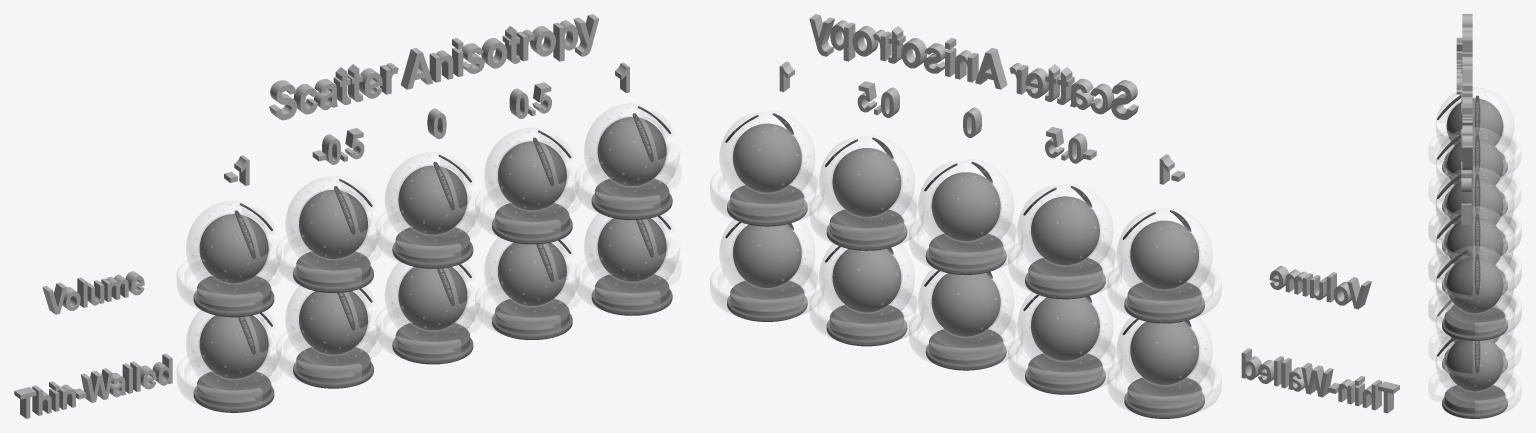
File: ScatterAnisotropy.glb
The picture shows the model from 3 angles, left to right: view 1: azimuth 30°, elevation 25°; view 2: azimuth 150°, elevation 25°; view 3: azimuth 270°, elevation 25°; orthographic projection. The views are drawn at different scales.
Parts seen in each view (by area): view 1: material_surface (×10), core (×10), base (×10), Scatter Anisotropy, Thin-Walled, UI, Volume; view 2: material_surface (×10), core (×10), base (×10), Scatter Anisotropy, Thin-Walled, UI, Volume; view 3: material_surface (×10), core (×6), base (×7), sss_bars (×6), Scatter Anisotropy, UI, Volume.
Boxes of the visible parts, x1,y1,x2,y2 form: material_surface (×10): [177, 103, 681, 411]; core (×10): [199, 117, 666, 378]; base (×10): [193, 178, 672, 412]; Scatter Anisotropy: [269, 14, 598, 120]; Thin-Walled: [14, 353, 172, 418]; UI: [224, 62, 629, 185]; Volume: [42, 271, 144, 314]; material_surface (×10): [710, 111, 1221, 417]; core (×10): [733, 123, 1198, 384]; base (×10): [727, 185, 1204, 418]; Scatter Anisotropy: [809, 14, 1138, 119]; Thin-Walled: [1241, 348, 1399, 413]; UI: [779, 61, 1184, 184]; Volume: [1269, 266, 1371, 309]; material_surface (×10): [1428, 87, 1521, 417]; core (×6): [1446, 98, 1503, 391]; base (×7): [1442, 151, 1507, 418]; sss_bars (×6): [1437, 95, 1480, 372]; Scatter Anisotropy: [1462, 14, 1472, 170]; UI: [1461, 52, 1471, 225]; Volume: [1456, 37, 1462, 94].
Bounding box in the file's own units: 0.6034 × 0.2623 × 0.0892.
13 materials, 1 textured.
